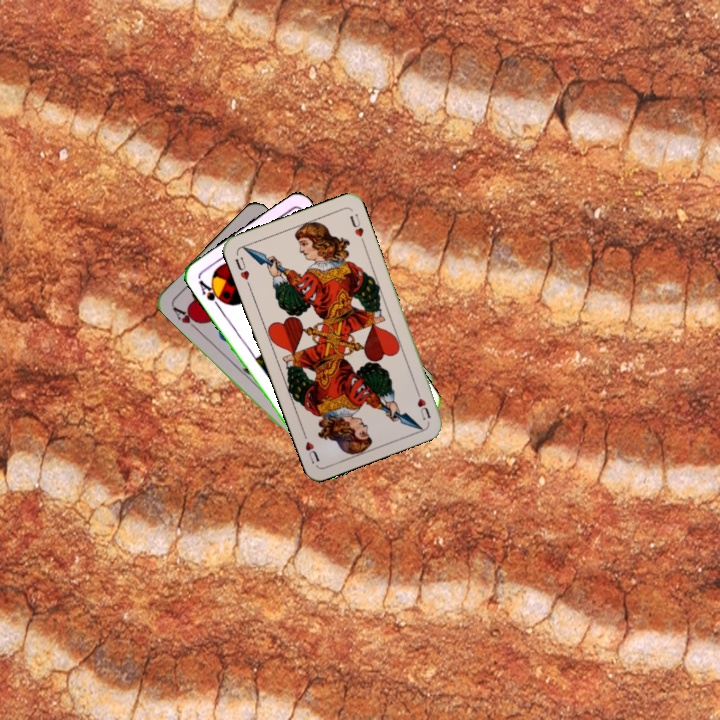HA: (168, 301, 204, 333)
HU: (412, 384, 433, 423), (231, 253, 253, 289)
SA: (194, 274, 227, 310)
